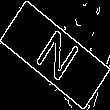N_SW: (28, 23, 82, 87)
